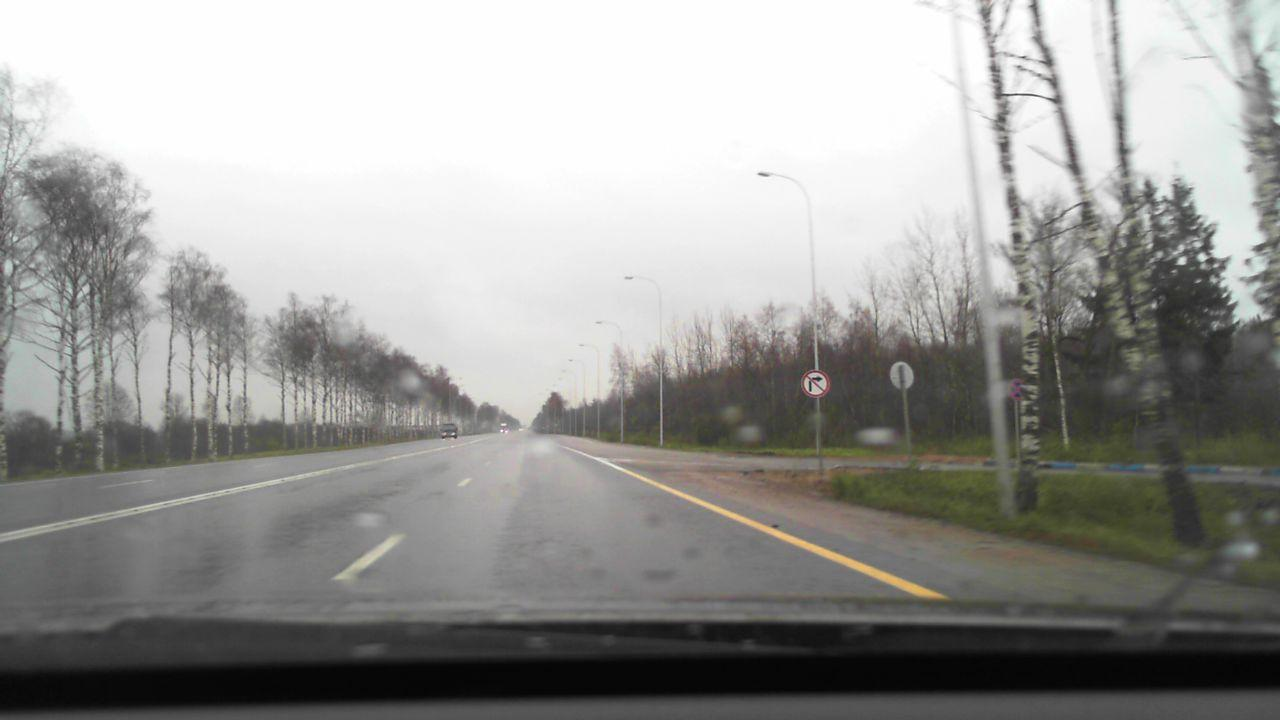3_18_1: (801, 369, 830, 398)
3_27: (1008, 379, 1026, 403)
